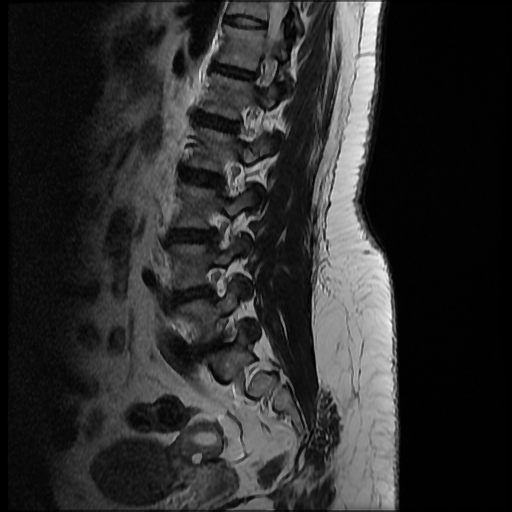LFS0: (194, 254, 234, 301)
